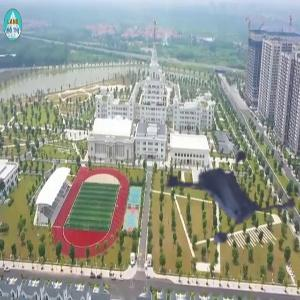drone: (138, 127, 284, 273)
